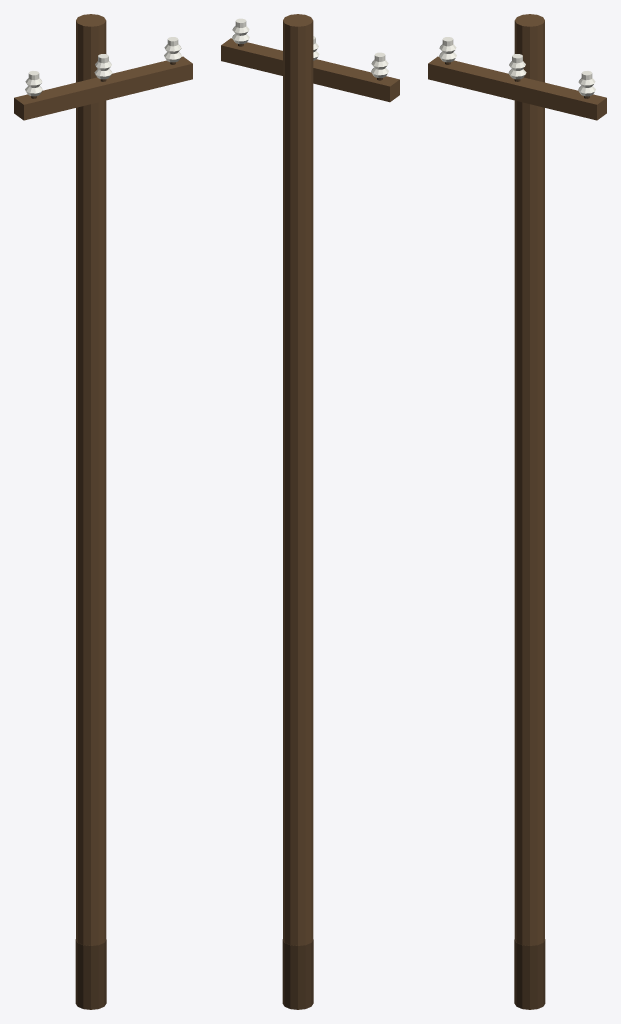
The model's file is utilitypole.glb.
3 views of the same model, side by side, from view 1: azimuth 30°, elevation 25°; view 2: azimuth 150°, elevation 25°; view 3: azimuth 330°, elevation 25° (orthographic).
Parts seen in each view (by area): view 1: body; view 2: body; view 3: body.
Boxes of the visible parts, x1,y1,x2,y2 form: body: [14, 14, 192, 1009]; body: [221, 14, 399, 1009]; body: [428, 14, 606, 1009].
Bounding box in the file's own units: 1.8 × 10 × 0.463.
